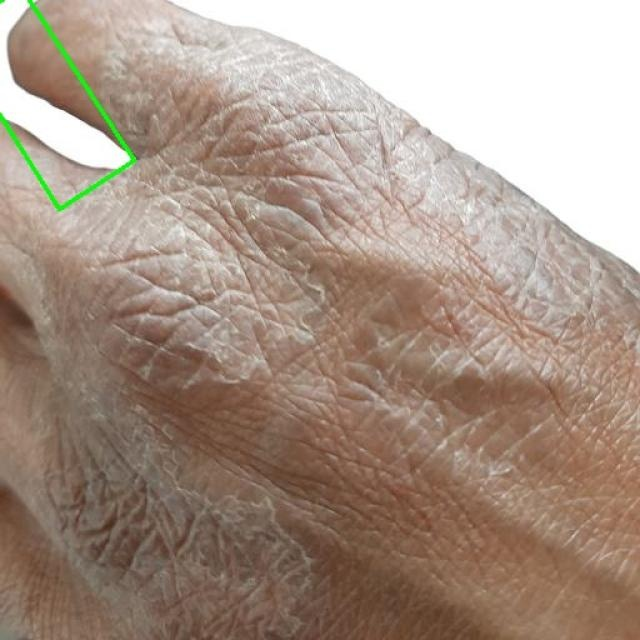Contact Dermatitis: (0, 0, 142, 209)
